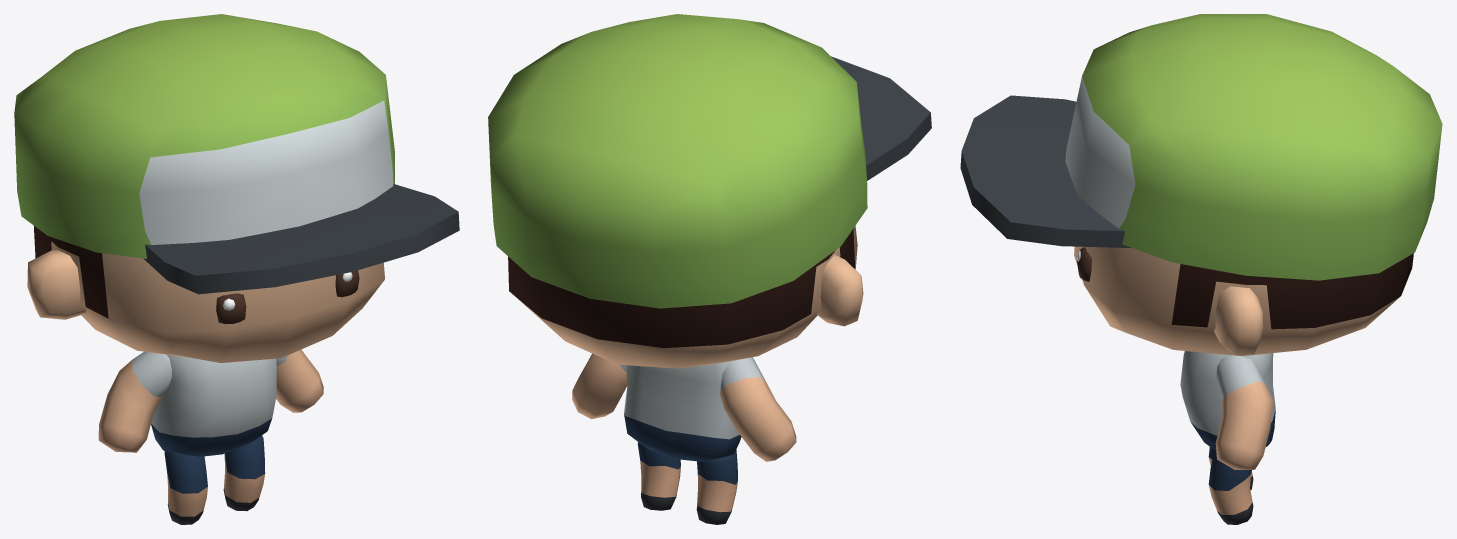
File: idle_0028.obj
3 views of the same model, side by side, from view 1: azimuth 30°, elevation 25°; view 2: azimuth 150°, elevation 25°; view 3: azimuth 270°, elevation 25° (orthographic).
Visible parts, largest first — view 1: Object_41, Object_42, Object_36, Object_44, Object_38; view 2: Object_41, Object_44, Object_36, Object_42; view 3: Object_41, Object_36, Object_42, Object_44.
Boxes of the visible parts, x1,y1,x2,y2 form: Object_41: (14,14,394,258); Object_42: (139,100,459,294); Object_36: (27,226,384,362); Object_44: (98,349,323,524); Object_38: (216,270,359,324); Object_41: (488,14,867,308); Object_44: (572,353,796,524); Object_36: (508,226,863,368); Object_42: (831,56,931,180); Object_41: (1082,14,1442,280); Object_36: (1074,246,1413,355); Object_42: (960,76,1135,247); Object_44: (1180,351,1275,524).
Bounding box in the file's own units: 0.9691 × 1.22 × 1.14.
